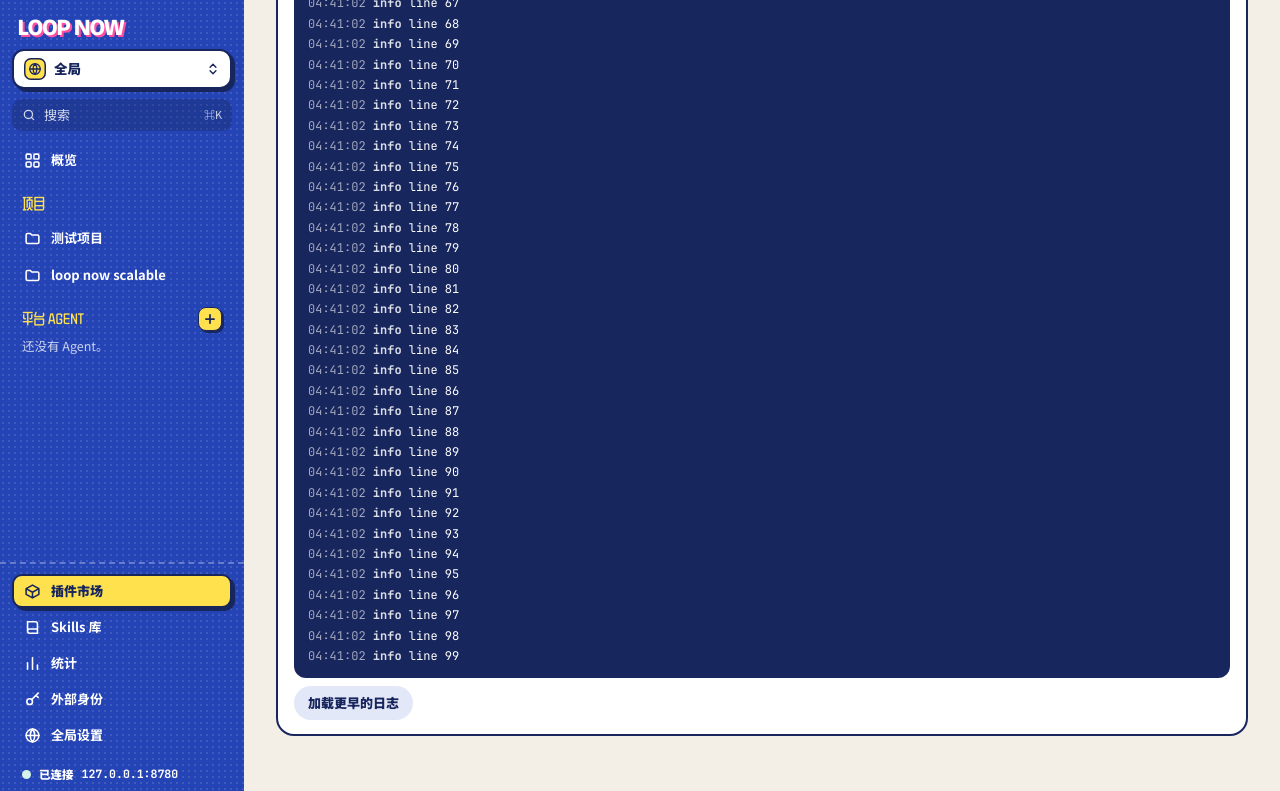
Test: 插件详情 › 日志页签：一页 100 条，按 nextBefore 往前翻
This screenshot has width=1280, height=791.
(page scrolled)
Click the button "加载更早的日志". click: click(354, 703)
box: [294,686,413,720]
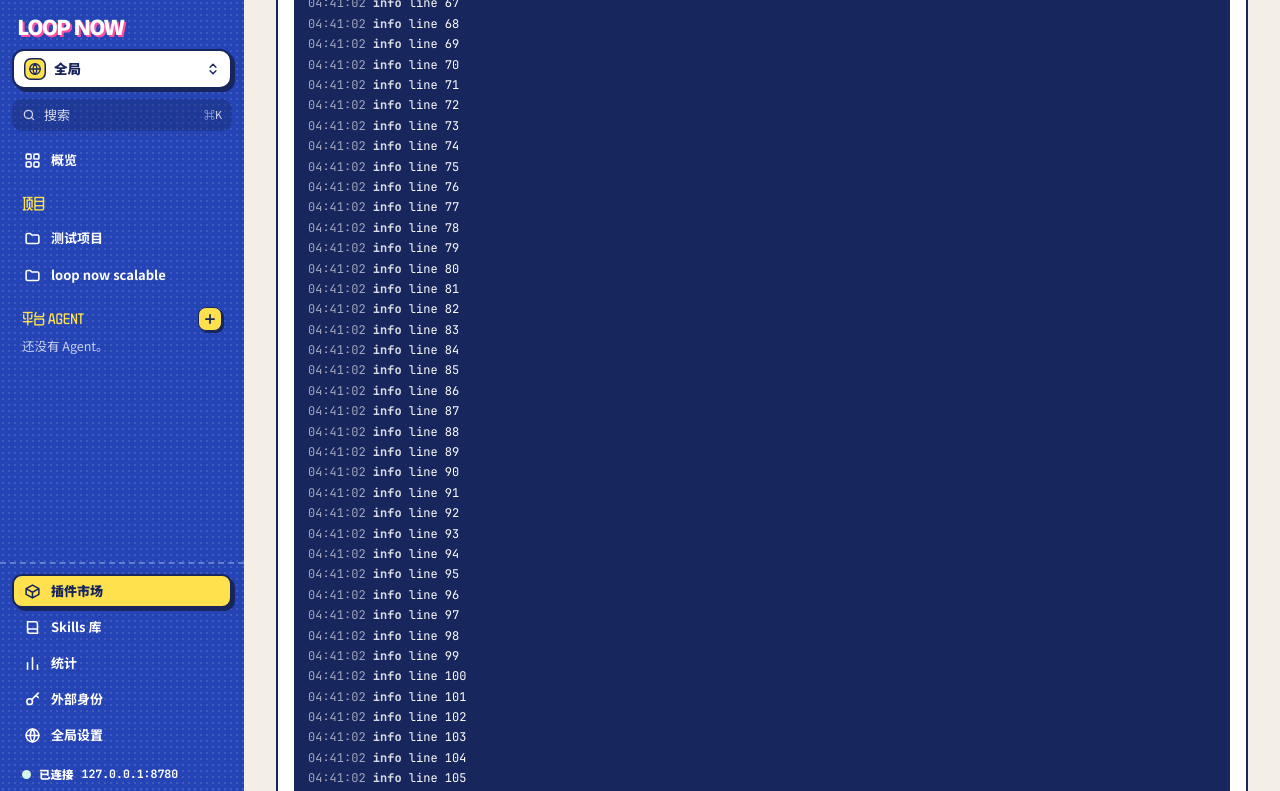
Expected: the button "加载更早的日志" is gone
